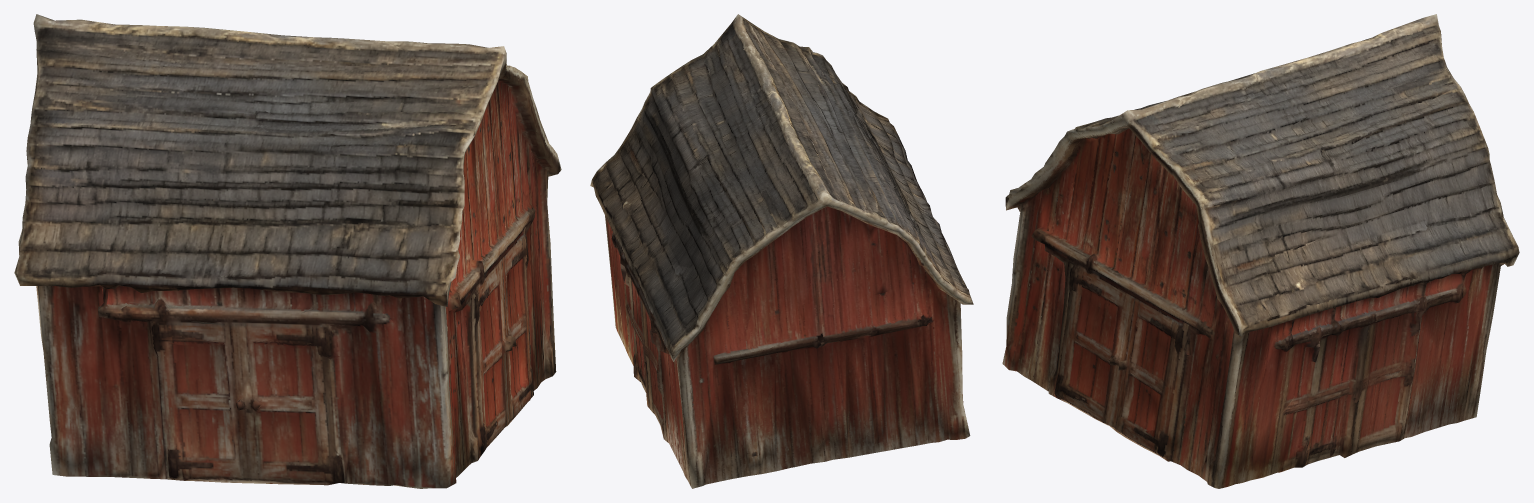
The model's file is barn.glb.
3 renders of one model, left to right at view 1: azimuth 30°, elevation 25°; view 2: azimuth 150°, elevation 25°; view 3: azimuth 270°, elevation 25°, orthographic. The views are drawn at different scales.
Visible parts, largest first — view 1: low; view 2: low; view 3: low.
Boxes of the visible parts, <box> form: low: <box>14,14,561,488</box>; low: <box>590,14,973,488</box>; low: <box>1002,14,1519,488</box>.
Bounding box in the file's own units: 8.95 × 7.05 × 9.
1 material, 1 textured.
